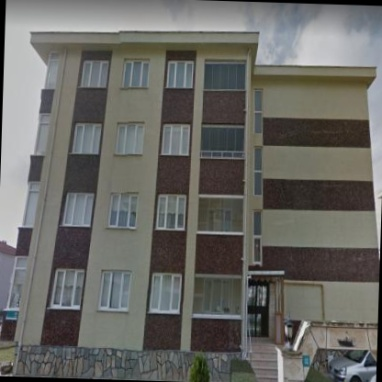door: (247, 279, 270, 338)
